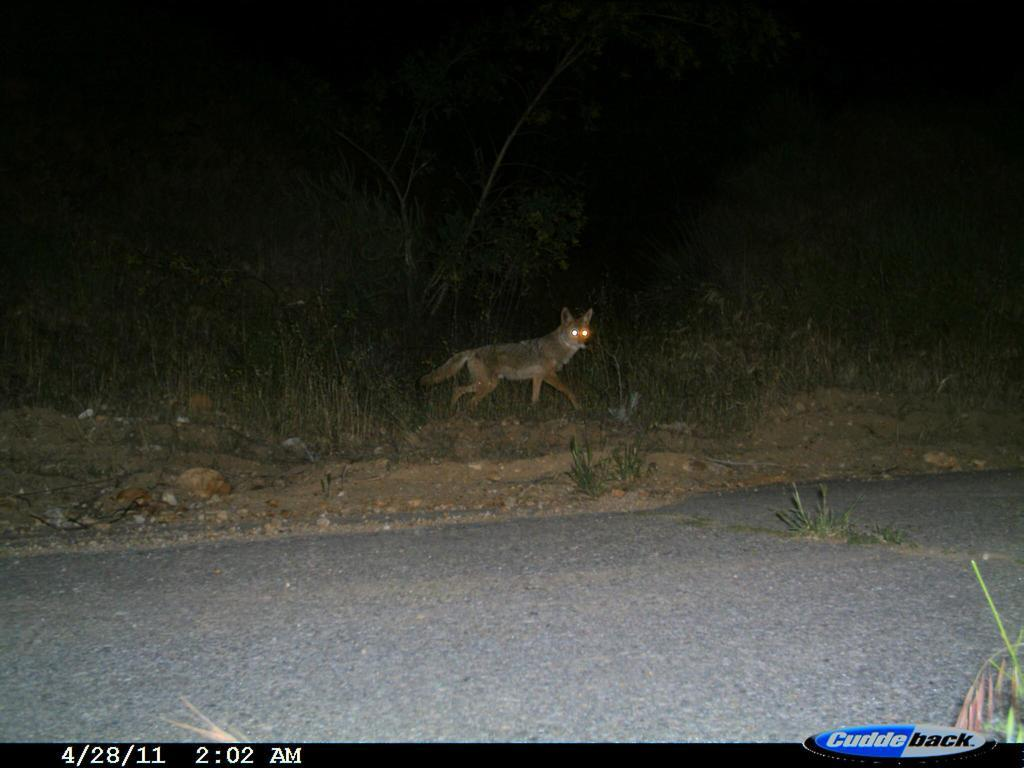coyote: (414, 297, 605, 431)
